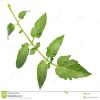Tomato leaf: (56, 53, 94, 87), (26, 9, 51, 41), (32, 58, 54, 90), (10, 41, 31, 71), (46, 33, 67, 60), (4, 22, 16, 41), (18, 7, 32, 23)
